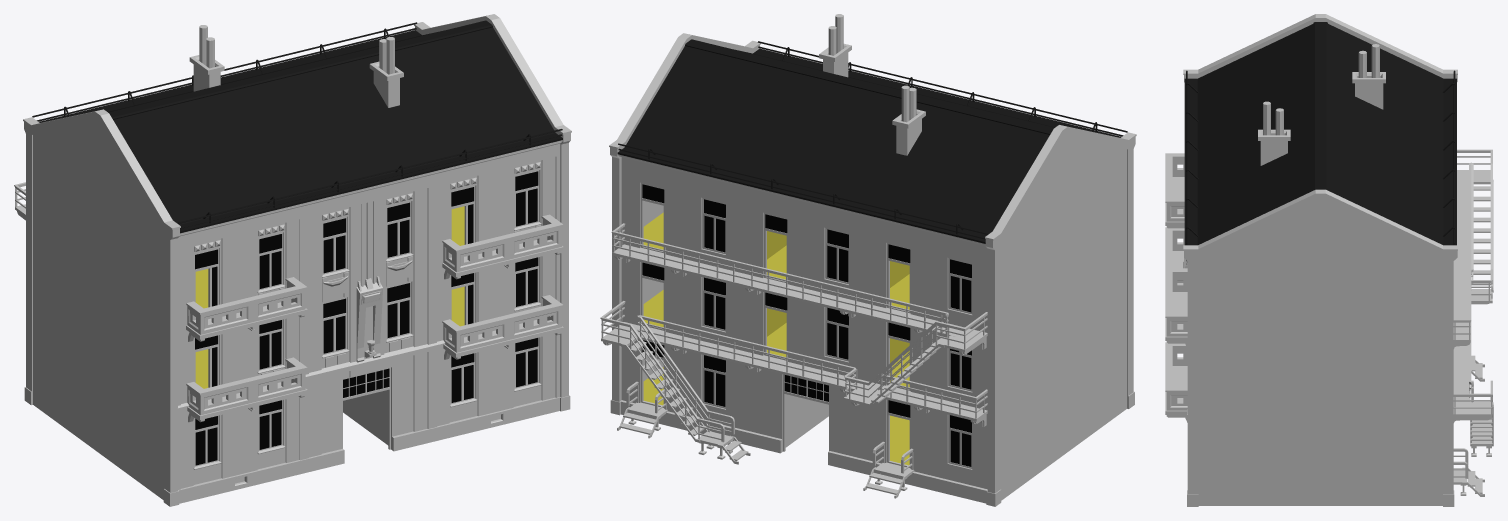
The model's file is SM_seventh_house_2.fbx.
The picture shows the model from 3 angles, left to right: view 1: azimuth 30°, elevation 25°; view 2: azimuth 150°, elevation 25°; view 3: azimuth 270°, elevation 25°; orthographic projection. The views are drawn at different scales.
Visible parts, largest first — view 1: Cylinder_8; view 2: Cylinder_8; view 3: Cylinder_8.
Boxes of the visible parts, x1,y1,x2,y2 form: Cylinder_8: (14,14,571,506); Cylinder_8: (600,14,1136,506); Cylinder_8: (1165,14,1493,506).
Bounding box in the file's own units: 1563 × 1390 × 1207.
